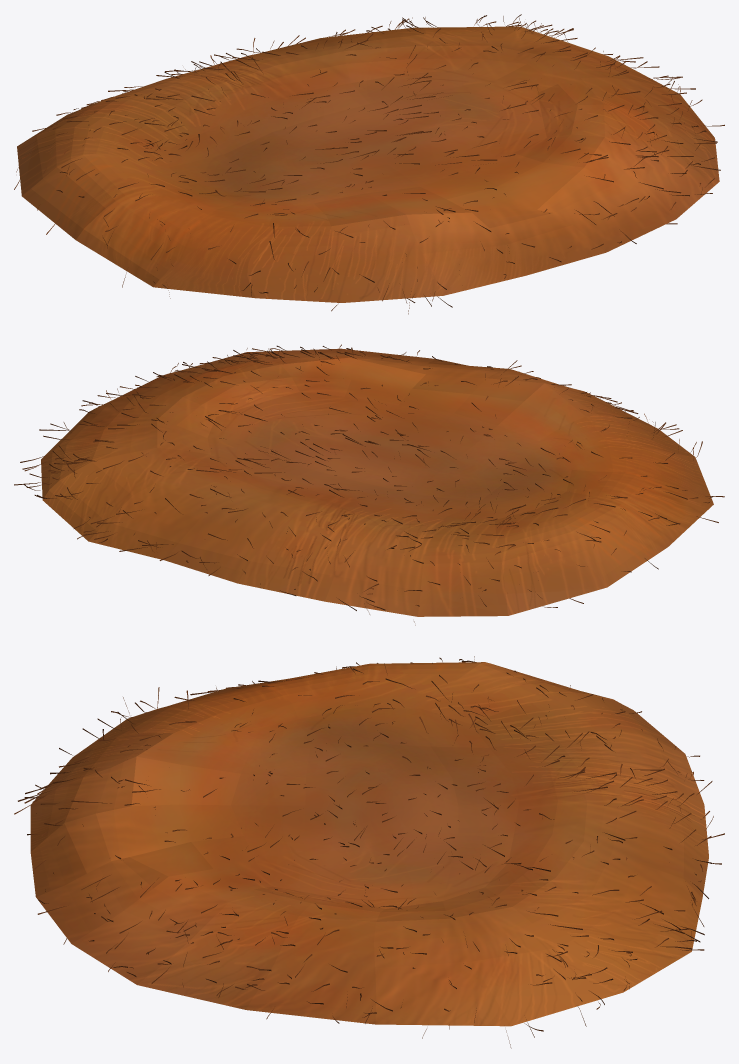
The model's file is hay2.fbx.
3 views of the same model, one above another, from view 1: azimuth 30°, elevation 25°; view 2: azimuth 150°, elevation 25°; view 3: azimuth 270°, elevation 25° (orthographic). The views are drawn at different scales.
Parts seen in each view (by area): view 1: Cube; view 2: Cube; view 3: Cube.
Boxes of the visible parts, x1=… form: Cube: x1=14, y1=14, x2=724, y2=314; Cube: x1=14, y1=344, x2=724, y2=625; Cube: x1=14, y1=656, x2=724, y2=1048.
Size of the model in its own units: 818 by 77.54 by 672.
Materials: 2 (1 with a texture image).
